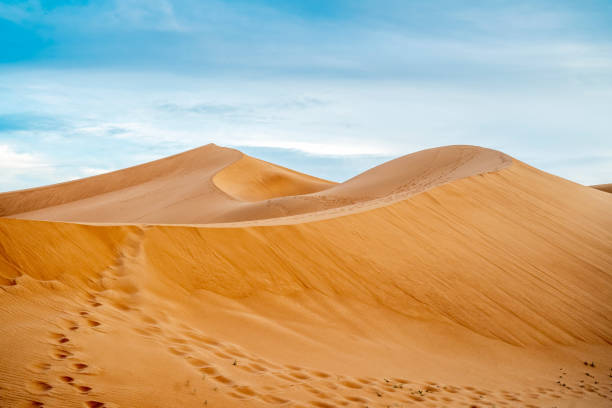human_foot_print: (0, 157, 611, 407), (32, 295, 605, 406), (112, 311, 609, 407), (141, 318, 604, 406), (166, 332, 488, 405), (181, 339, 487, 405), (24, 259, 124, 406), (155, 327, 288, 403), (26, 310, 108, 406), (86, 228, 143, 311), (26, 380, 52, 393), (21, 399, 44, 407)
